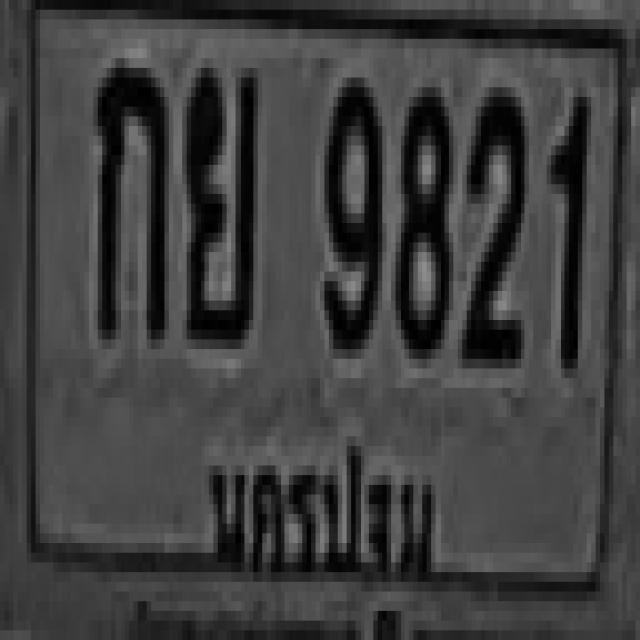1: (546, 87, 586, 359)
10GorGai: (94, 58, 164, 330)
2: (458, 78, 520, 358)
43YorYak: (182, 58, 254, 340)
8: (391, 78, 449, 349)
9: (320, 68, 378, 339)
NakhonPathom: (202, 435, 444, 591)
